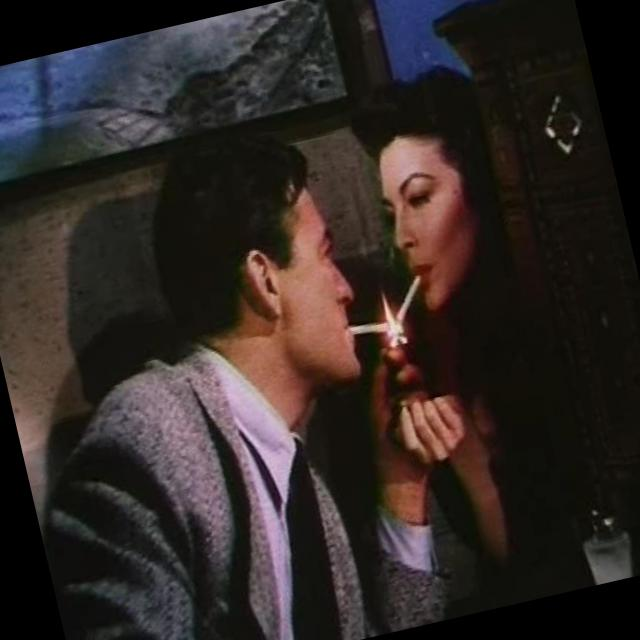smoke: (384, 257, 444, 327), (332, 298, 396, 347)
